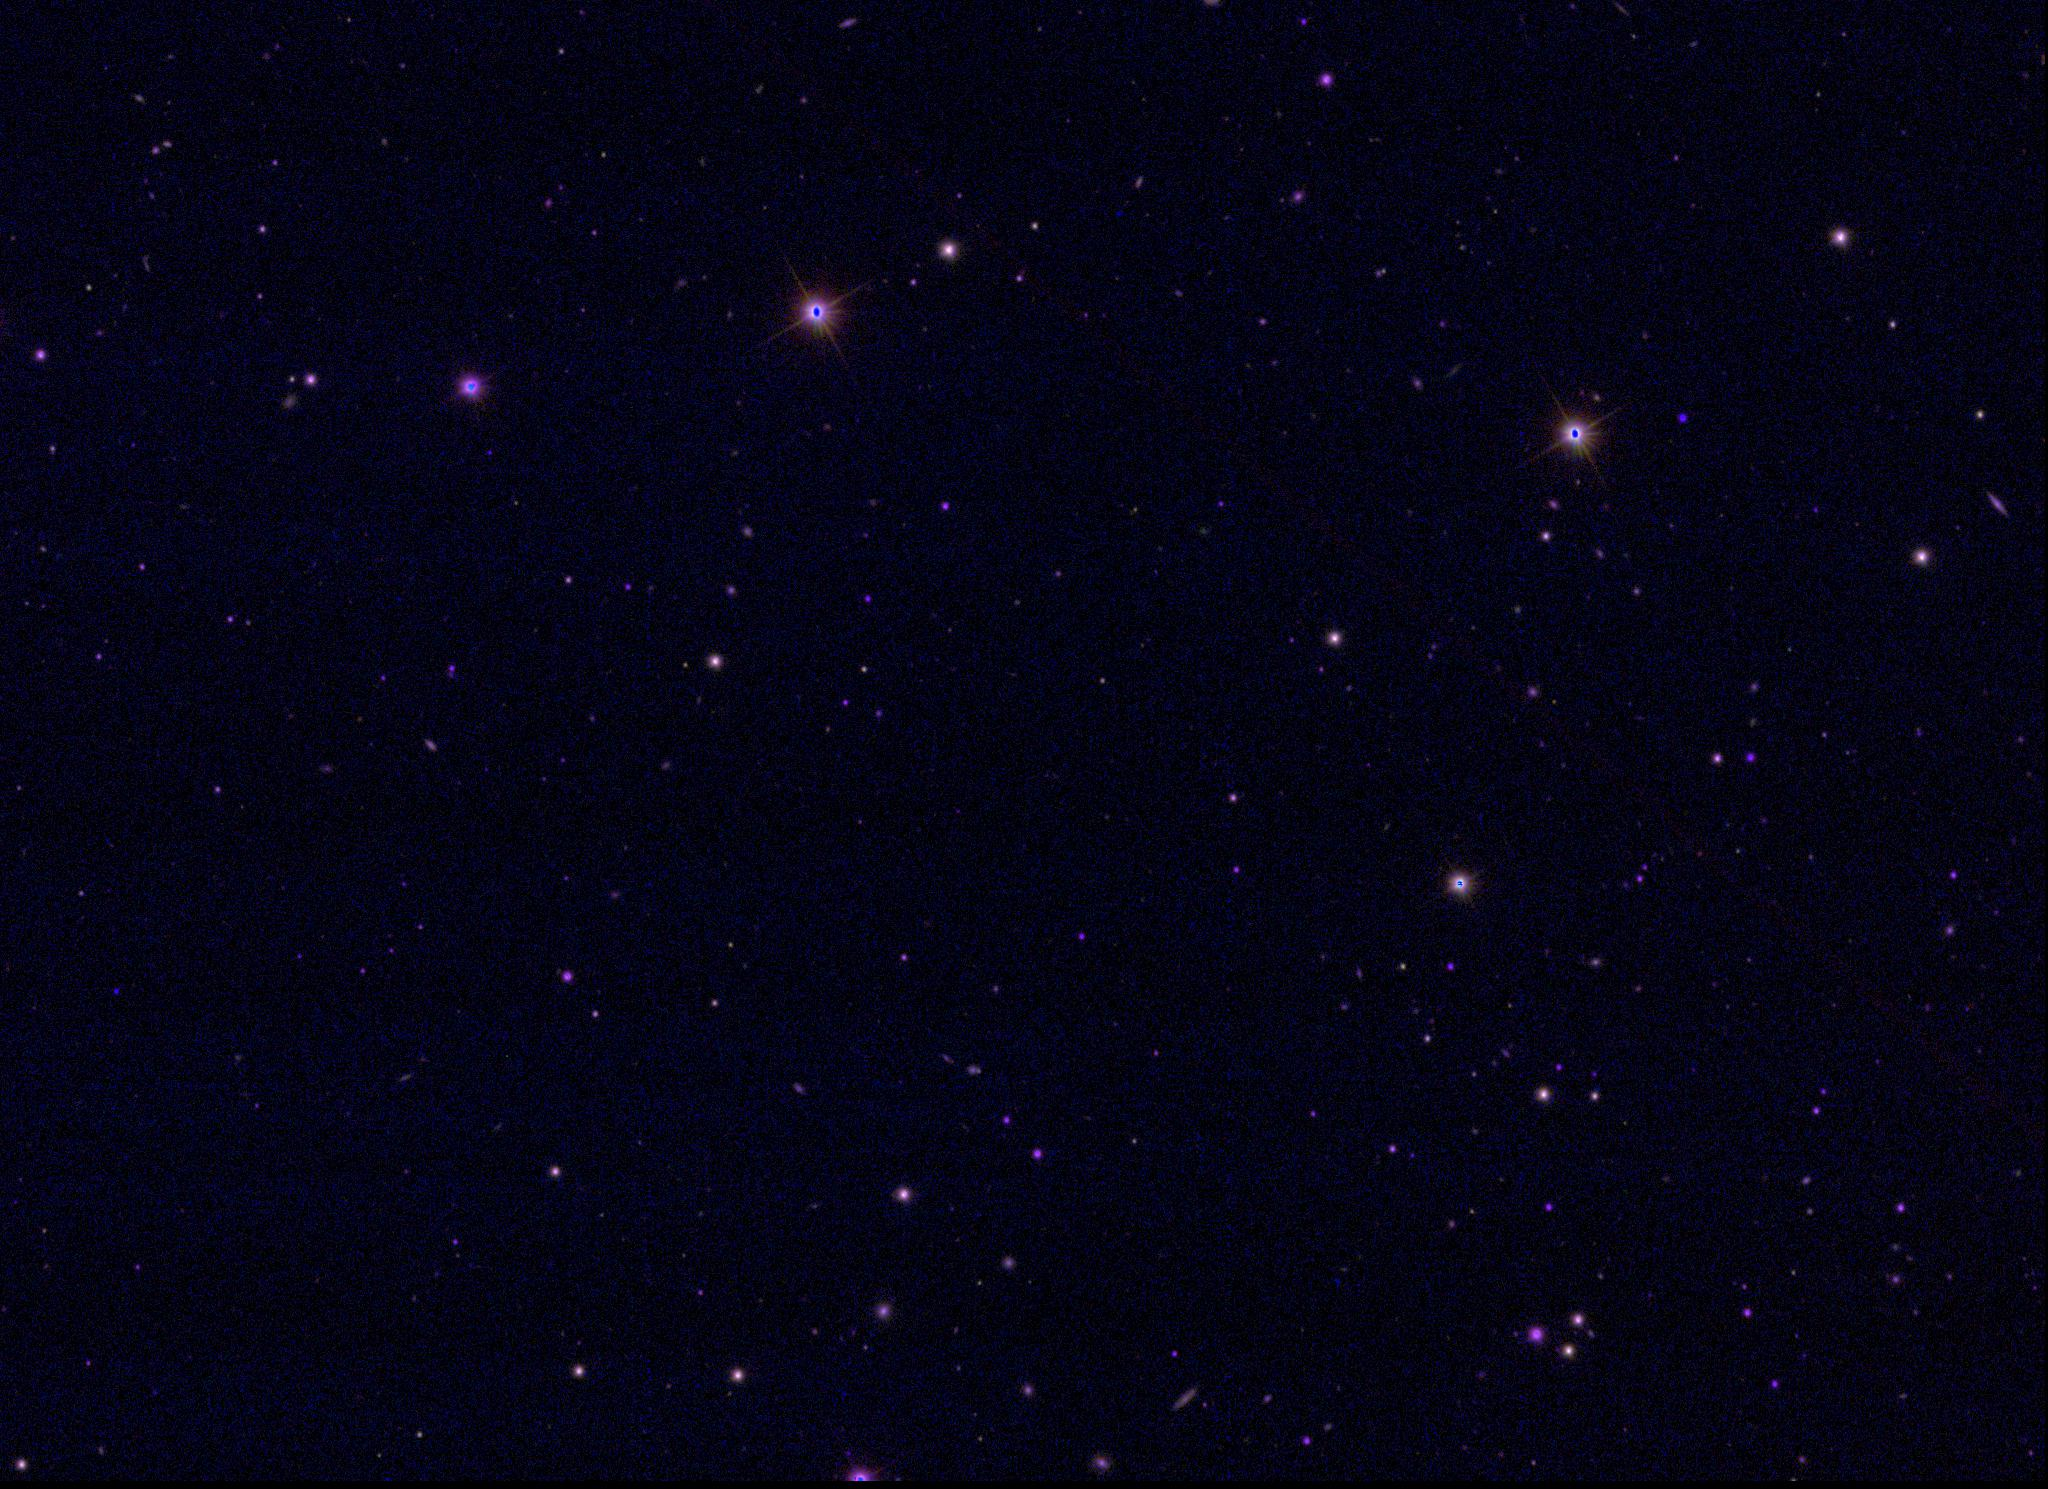L: (110, 983, 124, 997)
